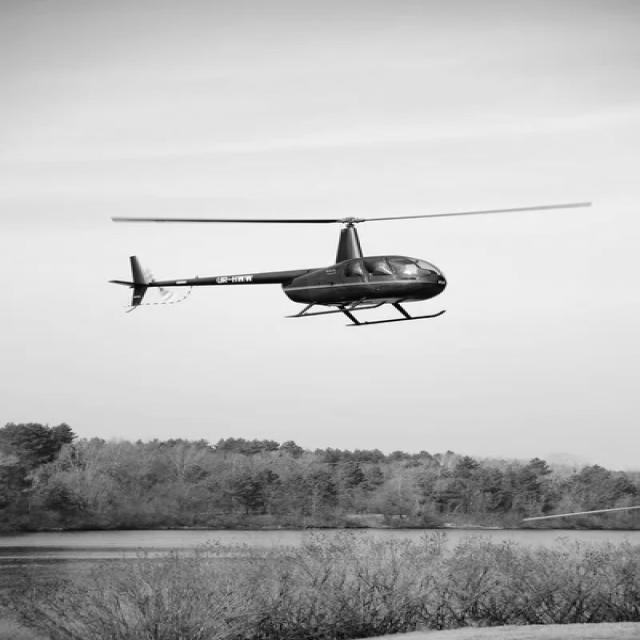Helicopter: (109, 203, 592, 327)
